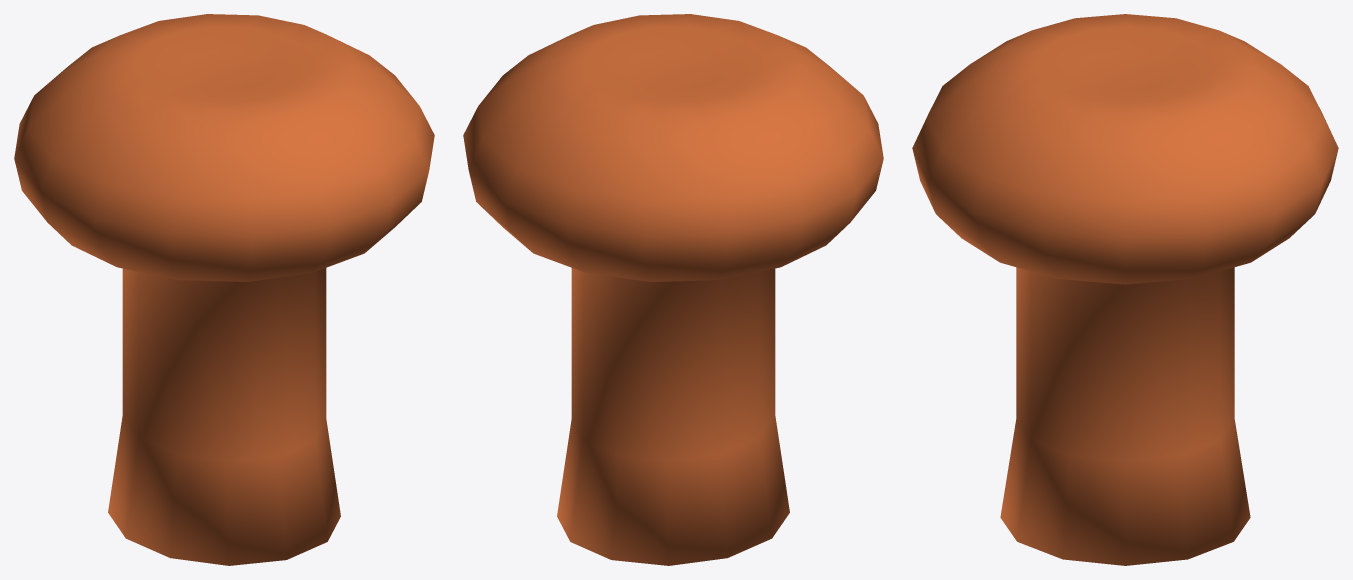
File: Lactarius_little.fbx
3 renders of one model, left to right at view 1: azimuth 30°, elevation 25°; view 2: azimuth 150°, elevation 25°; view 3: azimuth 270°, elevation 25°, orthographic.
Parts seen in each view (by area): view 1: Lactarius_little; view 2: Lactarius_little; view 3: Lactarius_little.
Boxes of the visible parts, x1,y1,x2,y2 form: Lactarius_little: [14, 14, 434, 565]; Lactarius_little: [463, 14, 883, 565]; Lactarius_little: [912, 14, 1338, 565].
Bounding box in the file's own units: 17.23 × 20.16 × 17.23.
